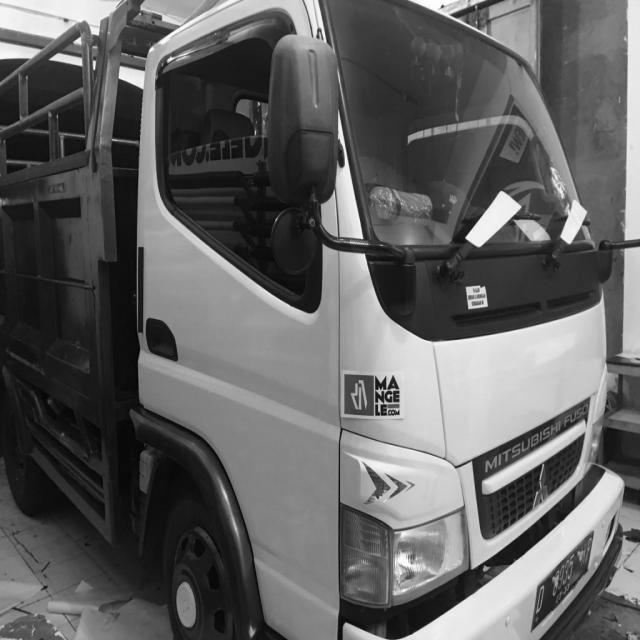truck: (101, 1, 637, 637)
